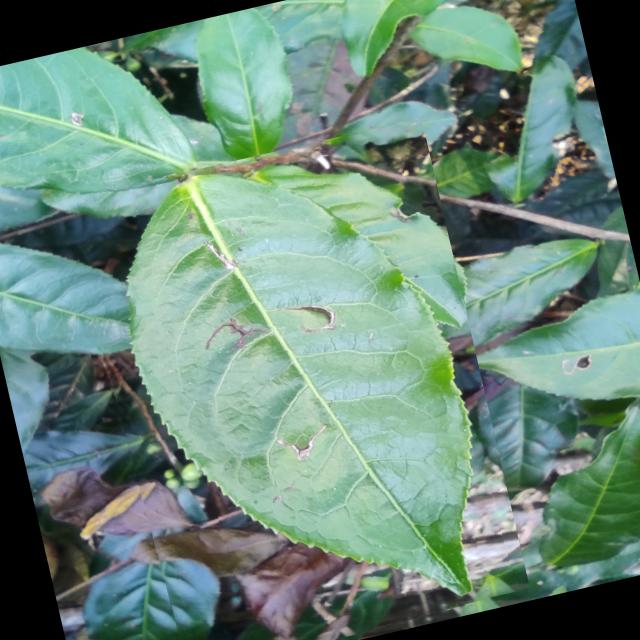Category D(7+ days, Not for Tea): (61, 117, 532, 640)
